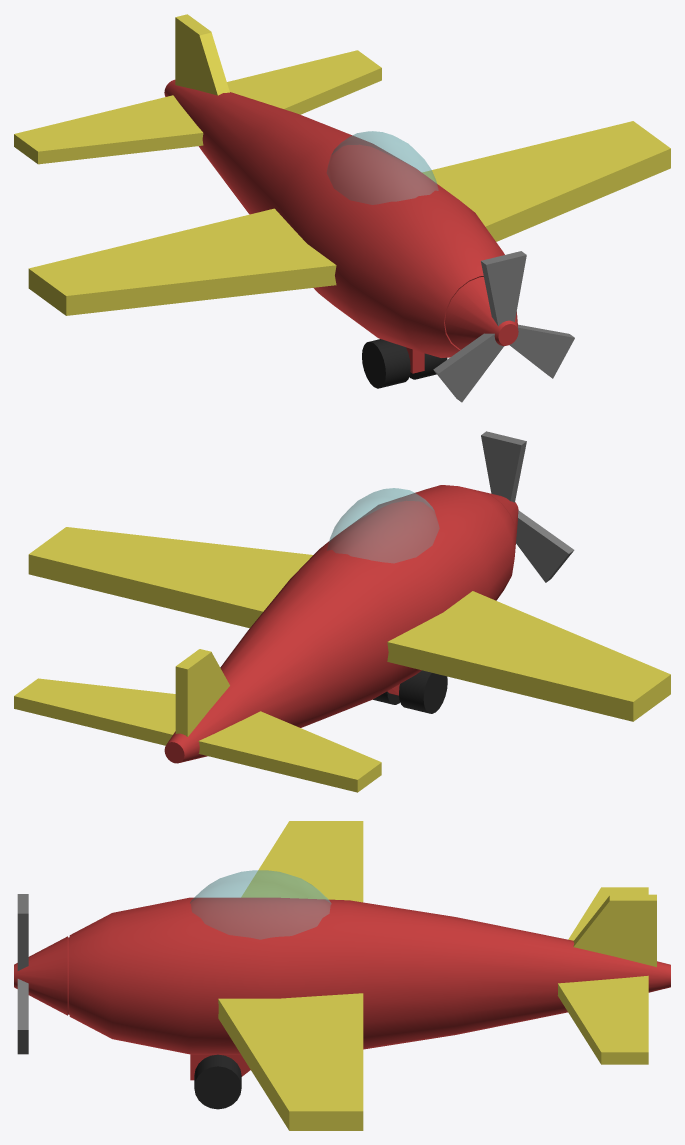
The model's file is Toy Plane.fbx.
The picture shows the model from 3 angles, top to bottom: view 1: azimuth 30°, elevation 25°; view 2: azimuth 150°, elevation 25°; view 3: azimuth 270°, elevation 25°; orthographic projection.
Visible parts, largest first — view 1: pCube11; view 2: pCube11; view 3: pCube11.
Boxes of the visible parts, x1,y1,x2,y2 form: pCube11: (14, 14, 670, 402); pCube11: (14, 431, 670, 792); pCube11: (14, 821, 670, 1130).
Bounding box in the file's own units: 8.7 × 3.09 × 8.32.
